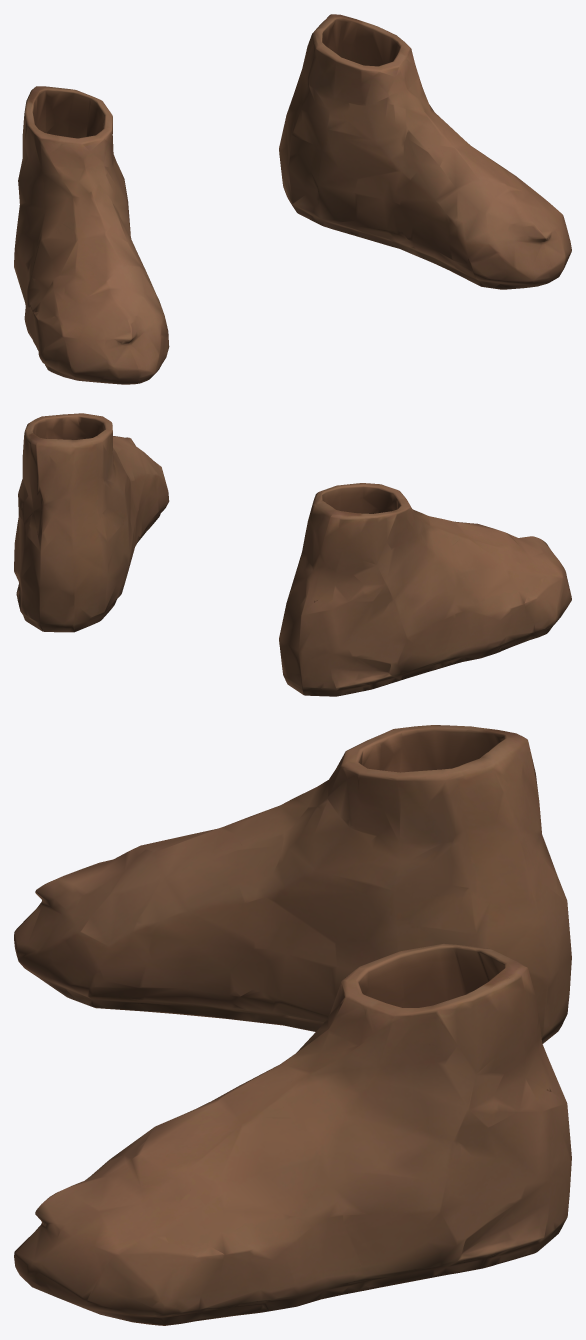
The model's file is shoe.glb.
The picture shows the model from 3 angles, top to bottom: view 1: azimuth 30°, elevation 25°; view 2: azimuth 150°, elevation 25°; view 3: azimuth 270°, elevation 25°; orthographic projection. The views are drawn at different scales.
Visible parts, largest first — view 1: Module_fisherman_shoe_left_0, Module_fisherman_shoe_right; view 2: Module_fisherman_shoe_right, Module_fisherman_shoe_left_0; view 3: Module_fisherman_shoe_left_0, Module_fisherman_shoe_right.
Boxes of the visible parts, x1,y1,x2,y2 form: Module_fisherman_shoe_left_0: [279, 14, 571, 289]; Module_fisherman_shoe_right: [14, 86, 169, 384]; Module_fisherman_shoe_right: [279, 483, 571, 696]; Module_fisherman_shoe_left_0: [14, 413, 169, 632]; Module_fisherman_shoe_left_0: [14, 943, 571, 1325]; Module_fisherman_shoe_right: [14, 725, 571, 1043].
Size of the model in its own units: 0.6143 by 0.2035 by 0.3627.
1 material, 1 textured.
